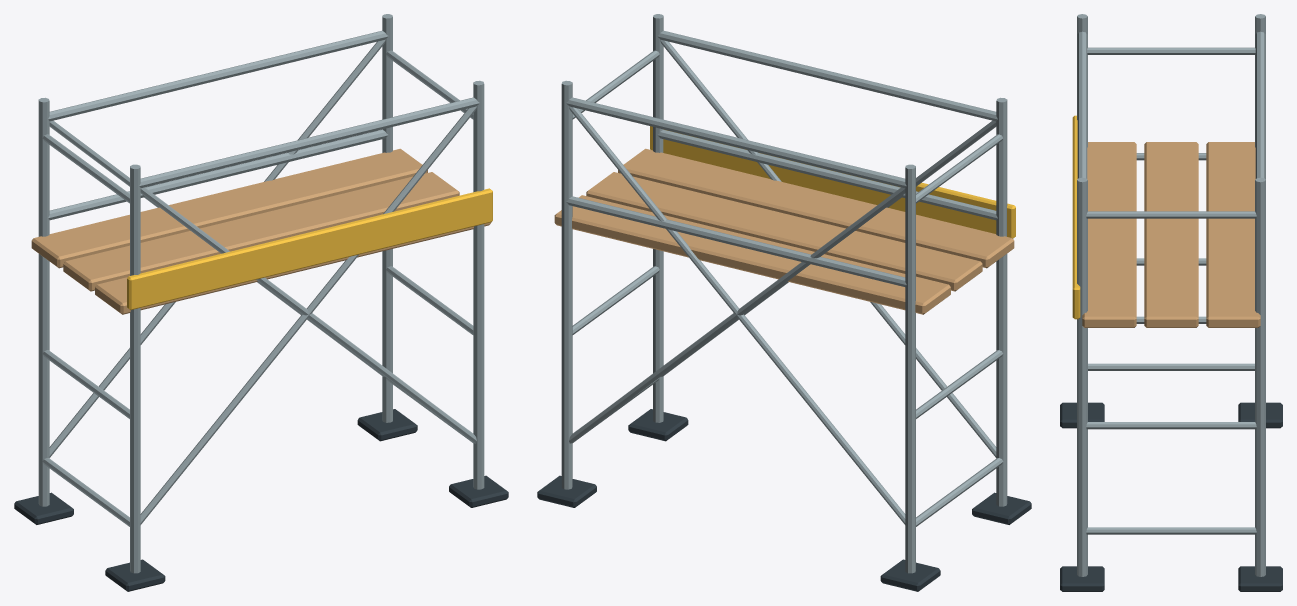
File: Scaffold_Platform.glb
The picture shows the model from 3 angles, left to right: view 1: azimuth 30°, elevation 25°; view 2: azimuth 150°, elevation 25°; view 3: azimuth 270°, elevation 25°; orthographic projection. The views are drawn at different scales.
Parts seen in each view (by area): view 1: Scaffold_Platform; view 2: Scaffold_Platform; view 3: Scaffold_Platform.
Part boxes in pixels (<box>): Scaffold_Platform: <box>14,14,508,591</box>; Scaffold_Platform: <box>537,14,1031,591</box>; Scaffold_Platform: <box>1060,14,1282,591</box>.
Size of the model in its own units: 2.23 by 2.3 by 1.15.
